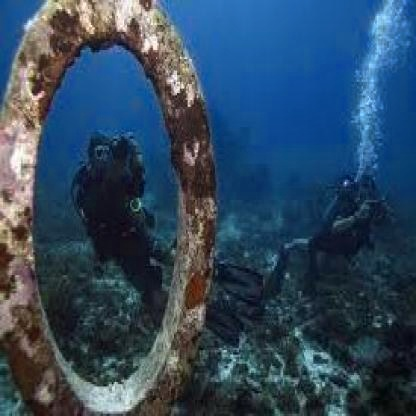tire: (131, 2, 224, 384)
